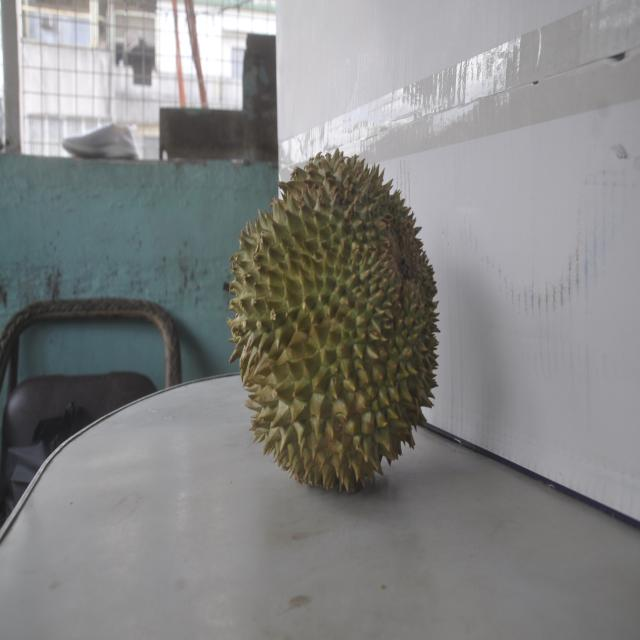mature: (228, 145, 433, 489)
